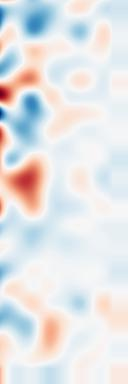filament: (2, 149, 58, 221)
